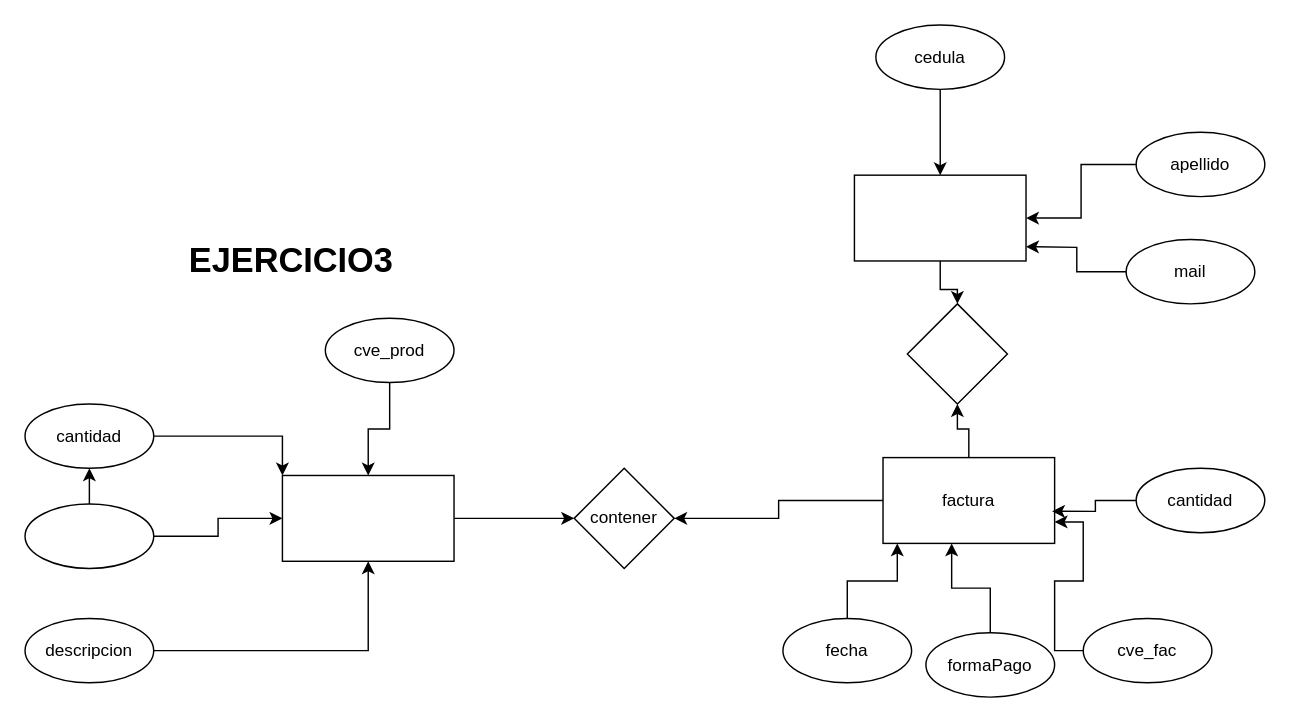
Some shapes in this 1290 by 722 pixel diagram are drawn without their labels. The box of each missing label's shape, as (x1, y1, x2, y2) in pixels:
cliente: (853, 174, 1026, 261)
precioUnitario: (24, 503, 154, 568)
producto: (281, 474, 454, 561)
tener: (906, 302, 1007, 404)
